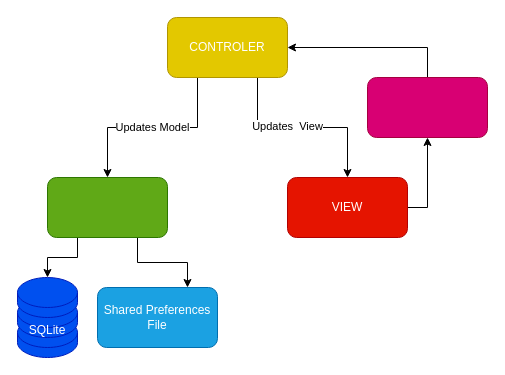
Image size: 505x375. Some labels were removed from this diagram. The shapes that lost their labels are listed below. From the top down, each one's centre as x and y in pixels, then its label:
[427,107]: User Input
[107,207]: MODEL
